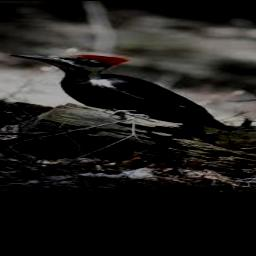Woodpecker: (11, 52, 237, 141)
